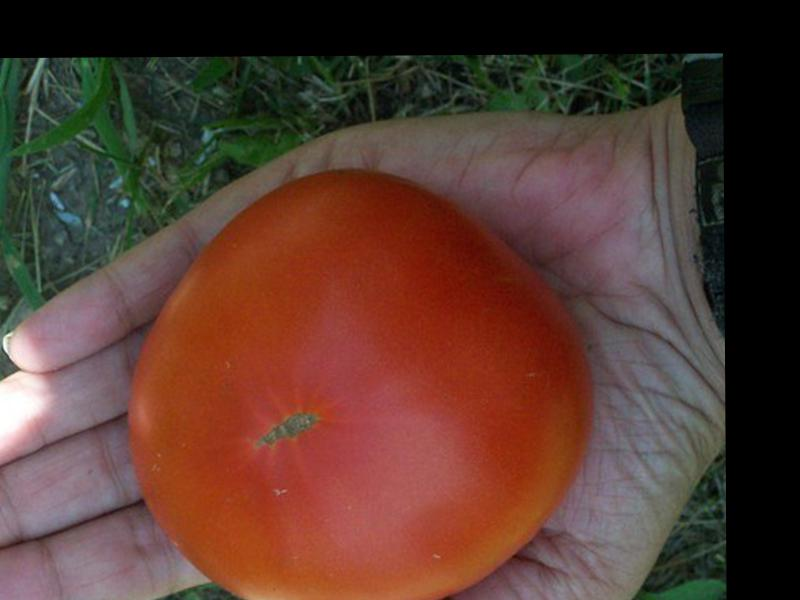Tomato: (128, 167, 588, 600)
